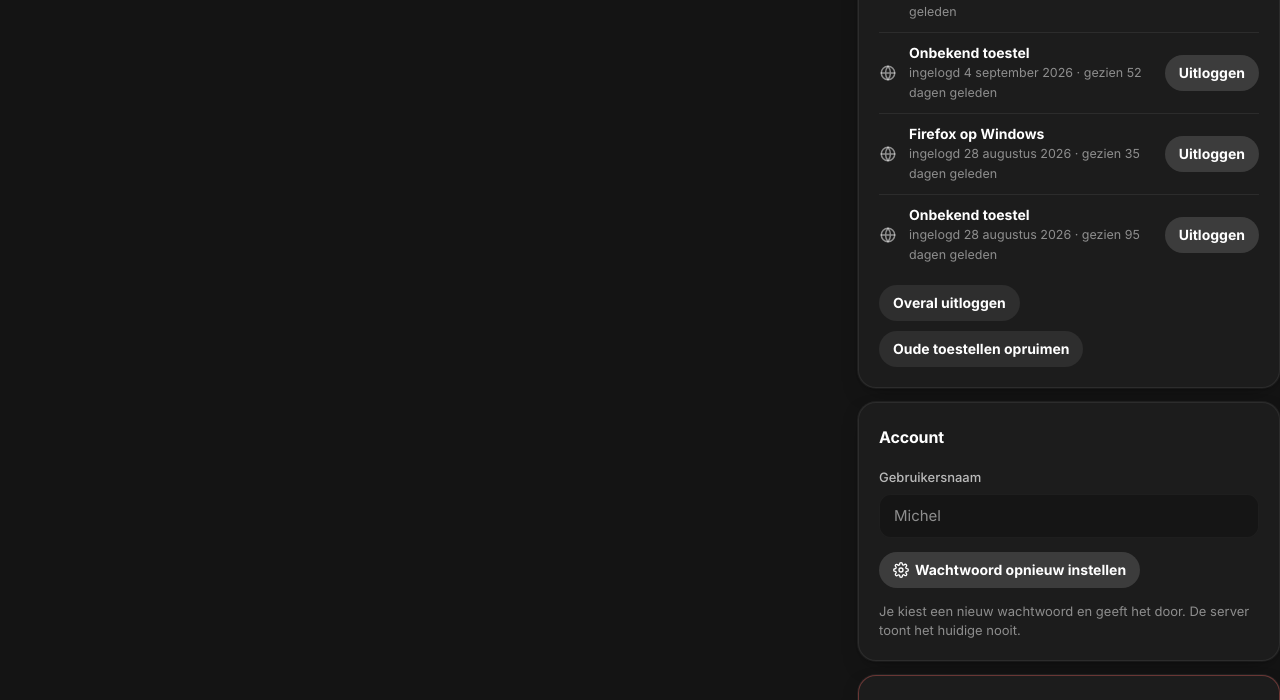
Test: oude toestellen opruimen, scherm 27 › volgt de gekozen periode
(page scrolled)
Click the button "Oude toestellen opruimen" at (981, 349), box [879,331,1084,367]
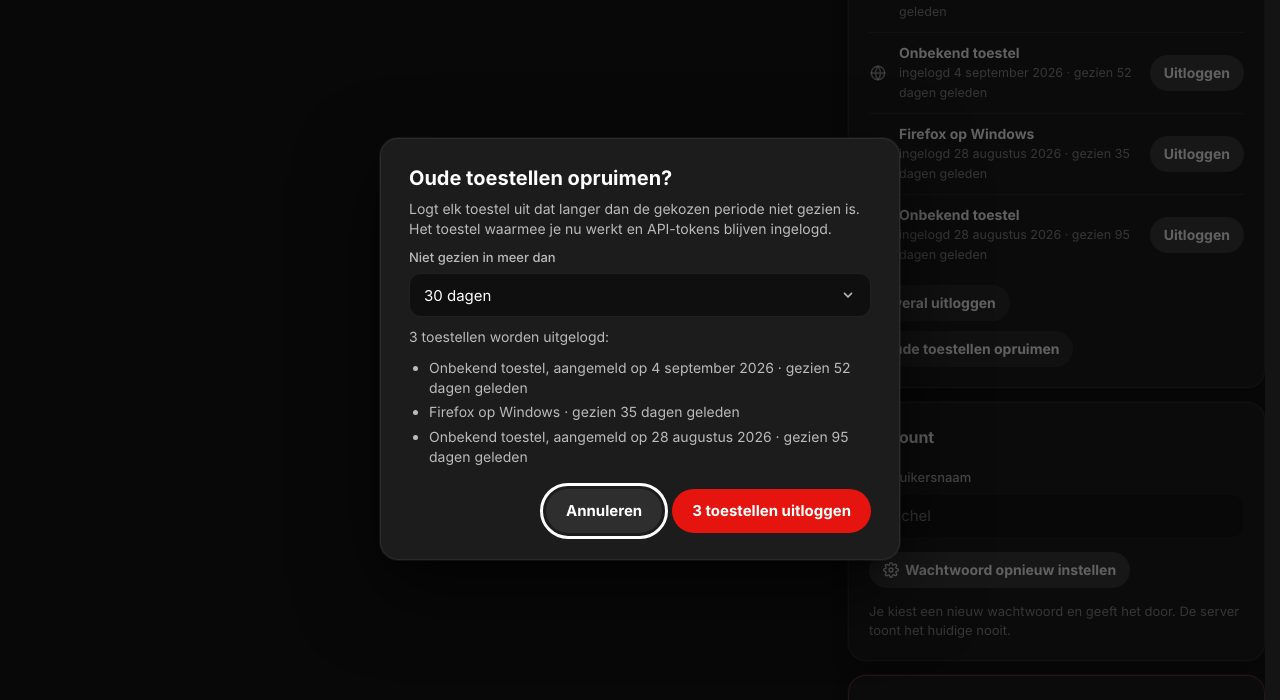
Now the dropdown labelled "Niet gezien in meer dan" shows "30 dagen"
Select "90 dagen" in the dropdown labelled "Niet gezien in meer dan" at (640, 295), box [409,273,871,317]
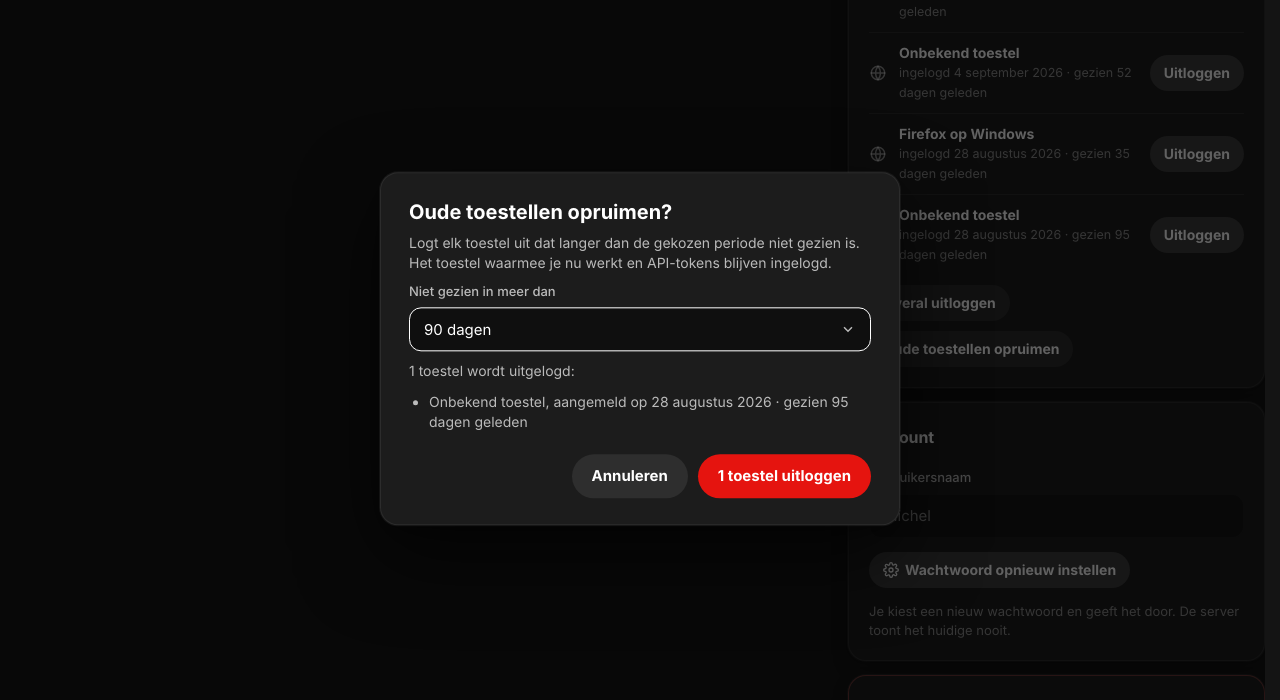
Now the button "1 toestel uitloggen" is enabled, box [698,455,871,499]
Now the text "1 toestel wordt uitgelogd:" is shown, box [409,363,575,380]
